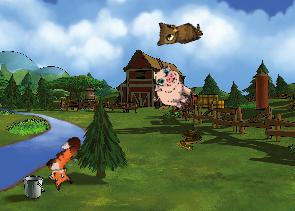fox: (36, 133, 97, 194)
owl: (151, 10, 204, 51)
pig: (145, 62, 200, 115)
